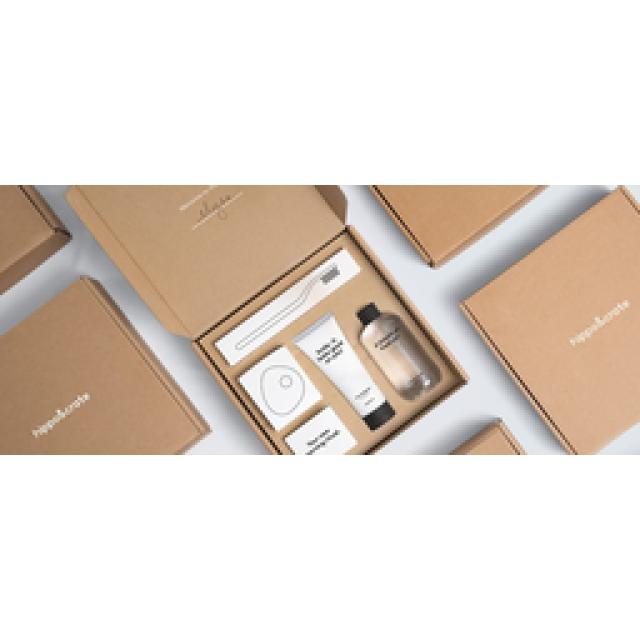cardboard: (460, 188, 638, 452), (0, 278, 208, 452), (370, 185, 540, 269)
